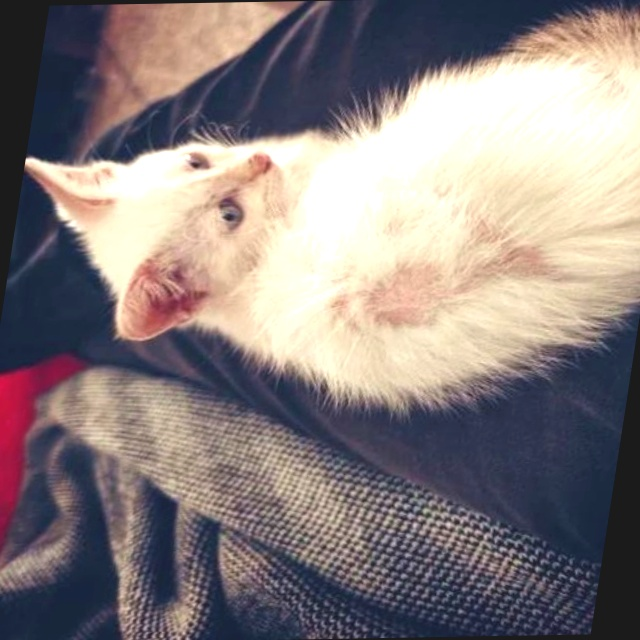hairloss: (355, 233, 550, 321)
